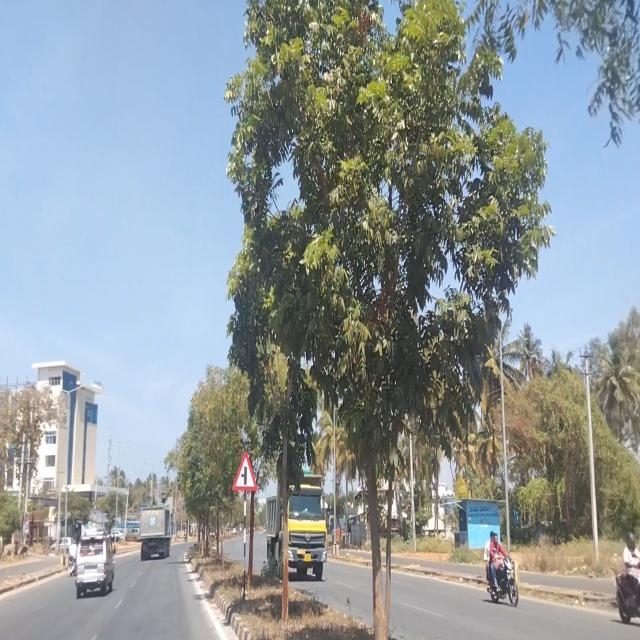bien_cam: (232, 450, 256, 493)
